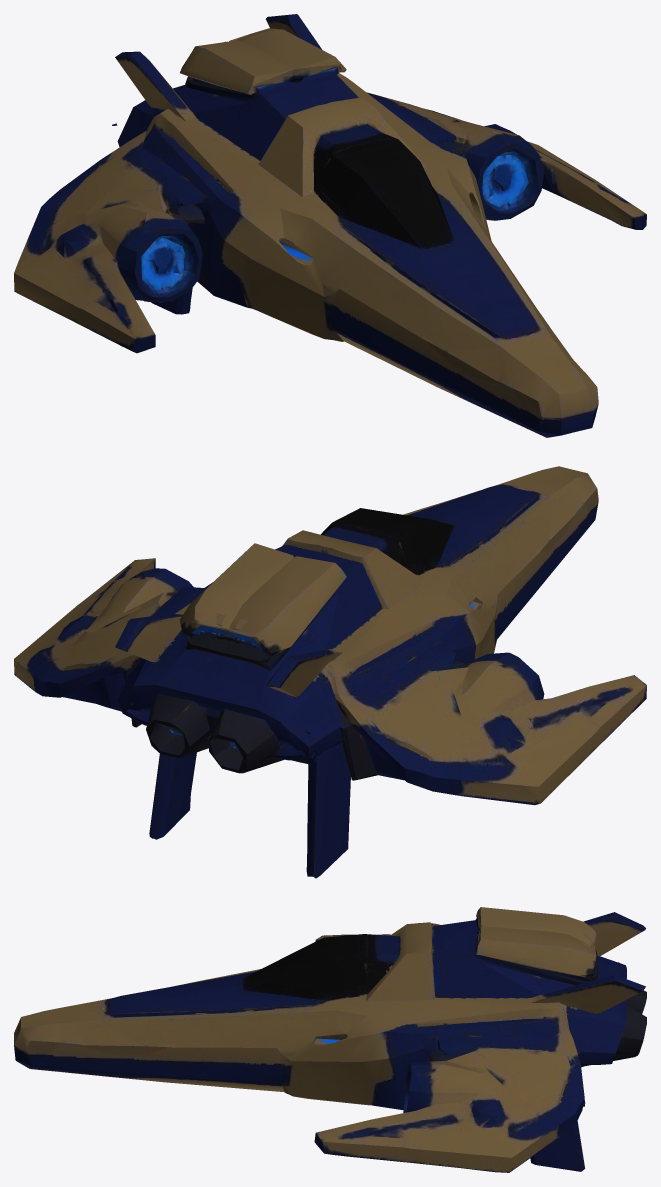
The model's file is nave_10.obj.
3 renders of one model, top to bottom at view 1: azimuth 30°, elevation 25°; view 2: azimuth 150°, elevation 25°; view 3: azimuth 270°, elevation 25°, orthographic. The views are drawn at different scales.
Parts seen in each view (by area): view 1: geometry_0; view 2: geometry_0; view 3: geometry_0.
Part boxes in pixels (<box>): geometry_0: <box>14,14,646,437</box>; geometry_0: <box>14,466,646,878</box>; geometry_0: <box>14,907,646,1172</box>.
Bounding box in the file's own units: 5.55 × 2.63 × 7.
Materials: 7 (1 with a texture image).
